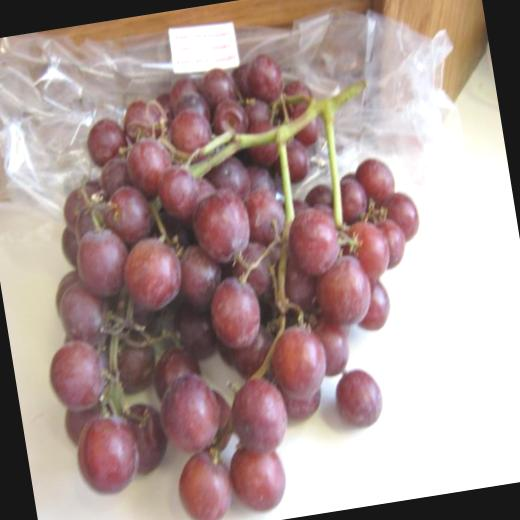Orange: (4, 34, 460, 520)
